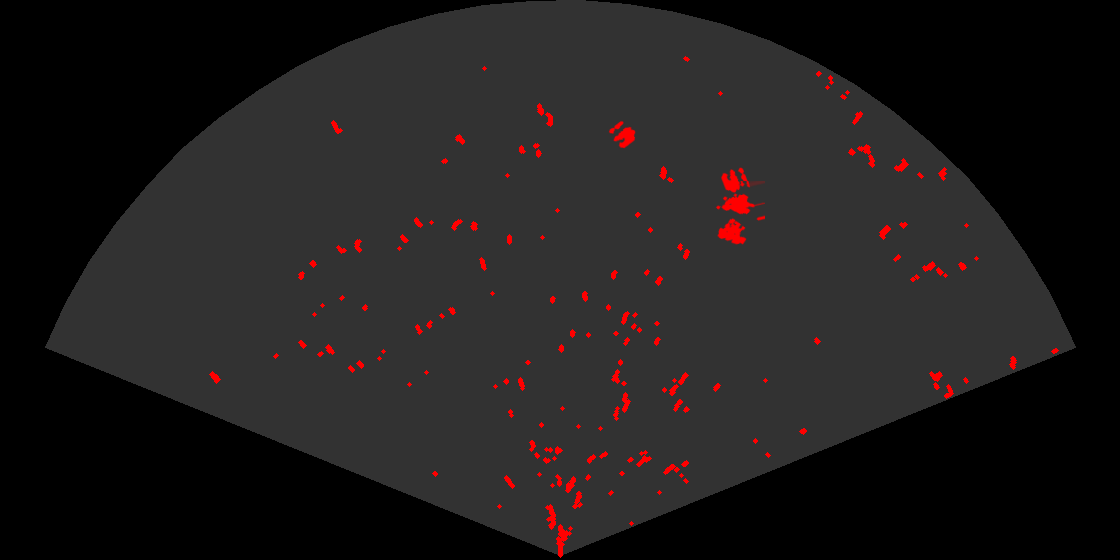ball: (607, 119, 637, 150), (719, 166, 750, 194)
cage: (714, 181, 765, 246)
